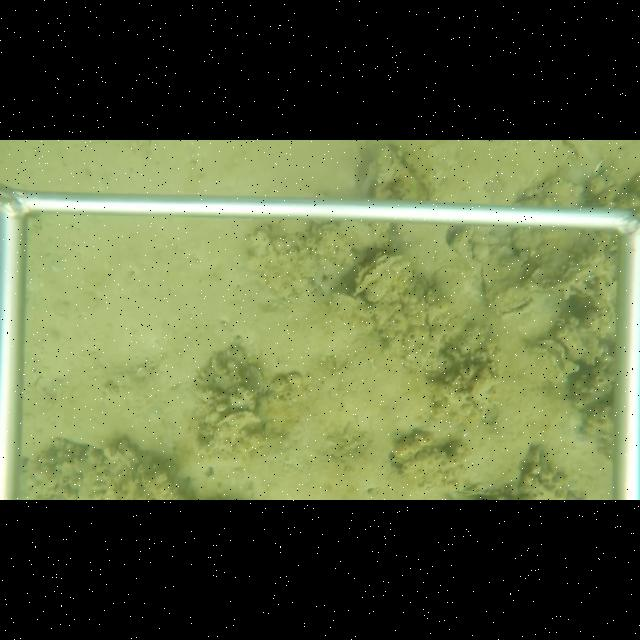Oyster-Closed: (208, 407, 262, 432)
Oyster-Open: (353, 254, 404, 299)
